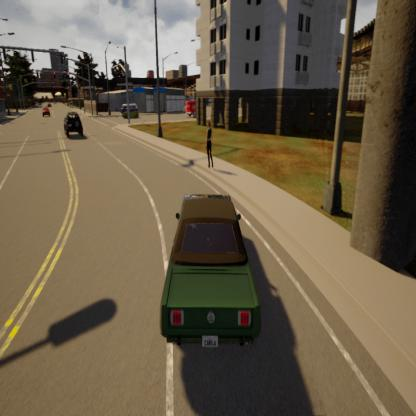Cars: (155, 189, 265, 355), (62, 108, 87, 142), (121, 101, 138, 119), (185, 100, 200, 120), (42, 105, 52, 119)
Pedestrian: (198, 114, 222, 172)
